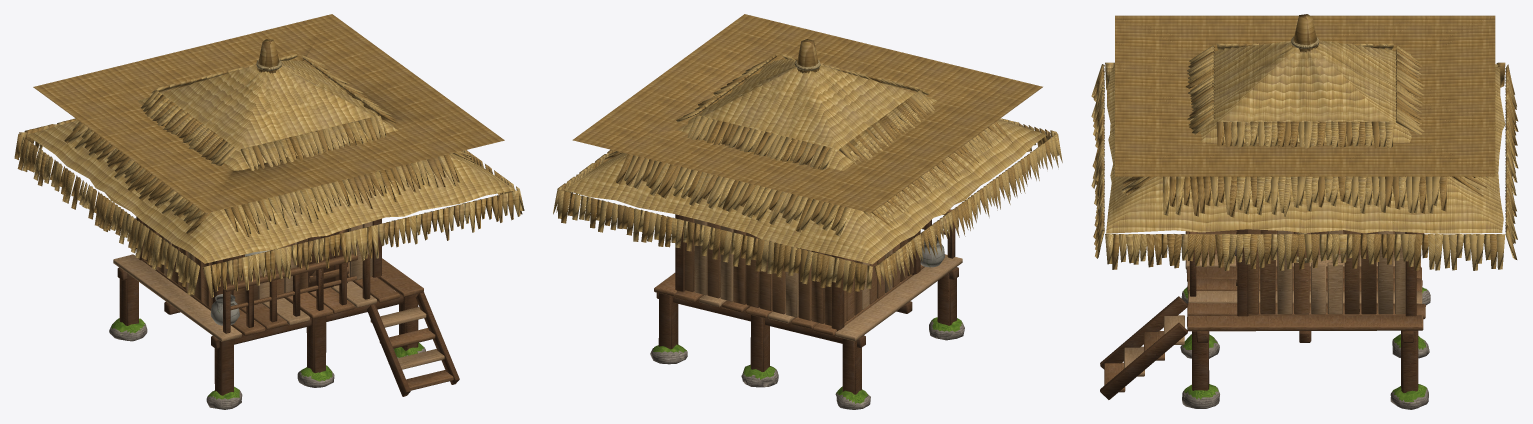
Rendered from hut_stilt.glb.
3 views of the same model, side by side, from view 1: azimuth 30°, elevation 25°; view 2: azimuth 150°, elevation 25°; view 3: azimuth 270°, elevation 25° (orthographic). The views are drawn at different scales.
Visible parts, largest first — view 1: hut_stilt_Thatch_Dark, hut_stilt_Thatch, hut_stilt_Wood_Dark, hut_stilt_Wood_Plank, hut_stilt_Wood_Light, hut_stilt_Rock, hut_stilt_Rock_Moss, hut_stilt_Stone; view 2: hut_stilt_Thatch_Dark, hut_stilt_Thatch, hut_stilt_Wood_Plank, hut_stilt_Wood_Dark, hut_stilt_Wood_Light, hut_stilt_Rock, hut_stilt_Rock_Moss, hut_stilt_Stone; view 3: hut_stilt_Thatch_Dark, hut_stilt_Thatch, hut_stilt_Wood_Plank, hut_stilt_Wood_Dark, hut_stilt_Wood_Light, hut_stilt_Rock, hut_stilt_Rock_Moss.
Part boxes in pixels (x1=…): hut_stilt_Thatch_Dark: x1=14, y1=14, x2=522, y2=291; hut_stilt_Thatch: x1=19, y1=54, x2=524, y2=297; hut_stilt_Wood_Dark: x1=117, y1=216, x2=459, y2=396; hut_stilt_Wood_Plank: x1=143, y1=222, x2=453, y2=390; hut_stilt_Wood_Light: x1=113, y1=221, x2=444, y2=369; hut_stilt_Rock: x1=109, y1=321, x2=425, y2=409; hut_stilt_Rock_Moss: x1=111, y1=318, x2=424, y2=399; hut_stilt_Stone: x1=210, y1=294, x2=239, y2=325; hut_stilt_Thatch_Dark: x1=556, y1=14, x2=1052, y2=292; hut_stilt_Thatch: x1=553, y1=54, x2=1062, y2=290; hut_stilt_Wood_Plank: x1=654, y1=209, x2=951, y2=335; hut_stilt_Wood_Dark: x1=656, y1=214, x2=958, y2=394; hut_stilt_Wood_Light: x1=694, y1=219, x2=962, y2=341; hut_stilt_Rock: x1=650, y1=319, x2=964, y2=409; hut_stilt_Rock_Moss: x1=653, y1=317, x2=962, y2=403; hut_stilt_Stone: x1=920, y1=236, x2=944, y2=267; hut_stilt_Thatch_Dark: x1=1092, y1=14, x2=1518, y2=270; hut_stilt_Thatch: x1=1091, y1=40, x2=1518, y2=270; hut_stilt_Wood_Plank: x1=1104, y1=229, x2=1425, y2=392; hut_stilt_Wood_Dark: x1=1100, y1=229, x2=1418, y2=399; hut_stilt_Wood_Light: x1=1124, y1=229, x2=1422, y2=376; hut_stilt_Rock: x1=1180, y1=290, x2=1430, y2=409; hut_stilt_Rock_Moss: x1=1182, y1=287, x2=1426, y2=401.
Bounding box in the file's own units: 6.86 × 5.99 × 6.86.
11 materials, 11 textured.
